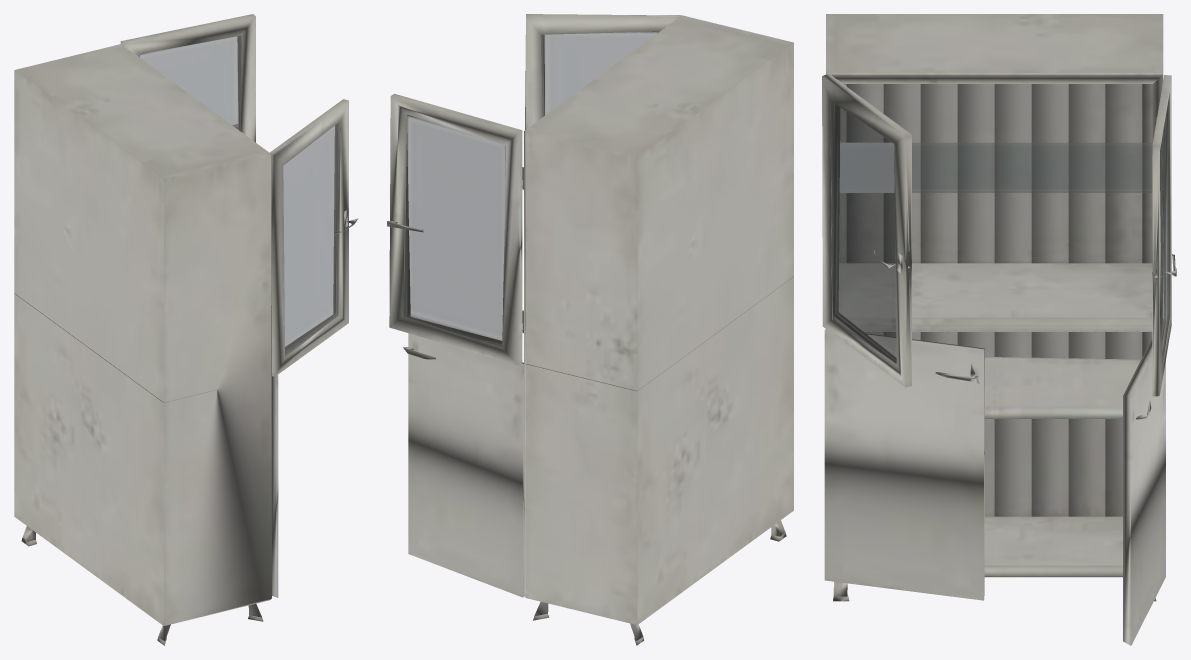
File: med-cabinet.lod1.glb
The picture shows the model from 3 angles, left to right: view 1: azimuth 30°, elevation 25°; view 2: azimuth 150°, elevation 25°; view 3: azimuth 270°, elevation 25°; orthographic projection. The views are drawn at different scales.
Parts seen in each view (by area): view 1: Object_24; view 2: Object_24; view 3: Object_24.
Part boxes in pixels (box(x1,y1,x2,y2)): Object_24: box(14, 14, 358, 645); Object_24: box(387, 14, 793, 645); Object_24: box(822, 14, 1176, 645).
Bounding box in the file's own units: 0.9288 × 1.75 × 1.06.
1 material, 1 textured.
